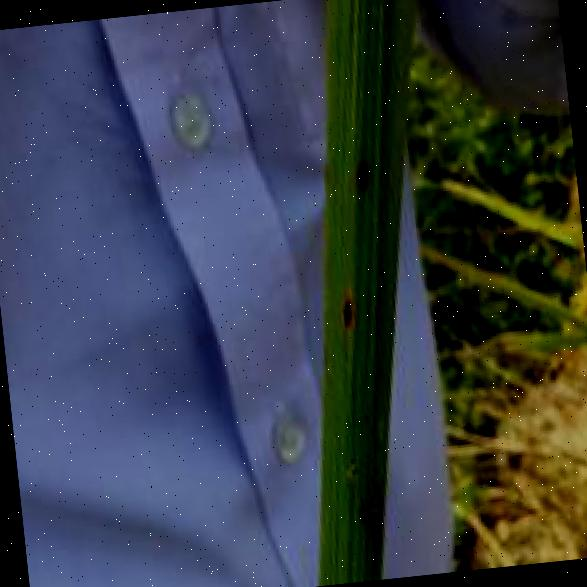Brown_Spot: (353, 476, 388, 540), (328, 271, 363, 331), (347, 147, 364, 185)
